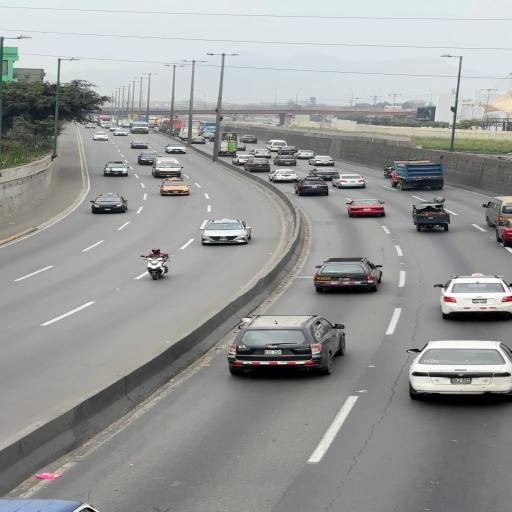auto: (228, 315, 342, 375), (406, 340, 512, 399), (434, 274, 512, 320), (312, 257, 382, 291), (199, 219, 253, 245), (90, 192, 128, 214), (345, 198, 385, 217), (294, 178, 329, 196), (158, 178, 190, 195), (330, 174, 366, 189), (151, 162, 182, 178), (495, 219, 512, 245), (268, 169, 299, 183), (309, 168, 340, 181), (102, 162, 128, 176), (243, 158, 271, 171), (137, 150, 160, 164), (232, 154, 255, 166), (265, 140, 287, 152), (154, 156, 180, 166), (164, 142, 186, 153), (273, 155, 297, 165), (293, 150, 315, 160), (276, 146, 298, 155), (310, 155, 333, 163), (130, 140, 149, 149), (240, 135, 258, 143), (112, 129, 128, 136), (94, 133, 108, 141), (94, 130, 107, 134)
bus: (387, 159, 445, 191), (482, 196, 510, 228), (217, 131, 239, 156), (160, 120, 182, 135), (178, 127, 201, 141)
camion: (139, 248, 172, 278)
moto: (130, 120, 149, 134), (199, 121, 217, 133), (98, 114, 112, 126), (147, 116, 158, 126), (121, 119, 133, 128)
